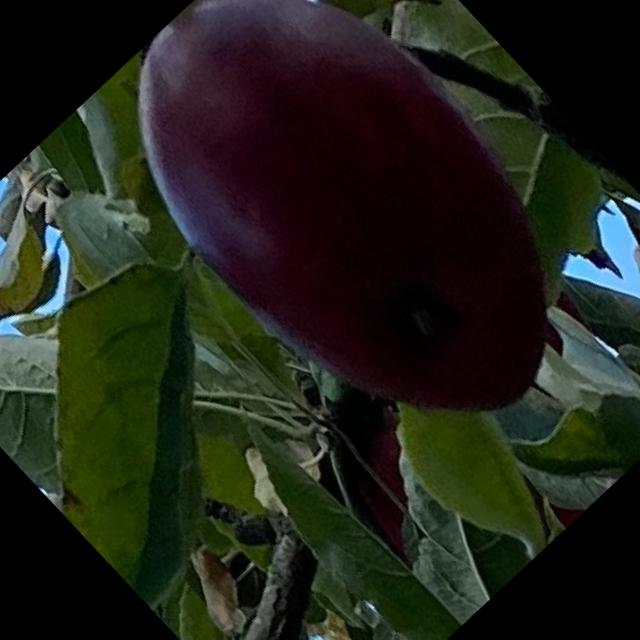Apples: (68, 0, 632, 493)
